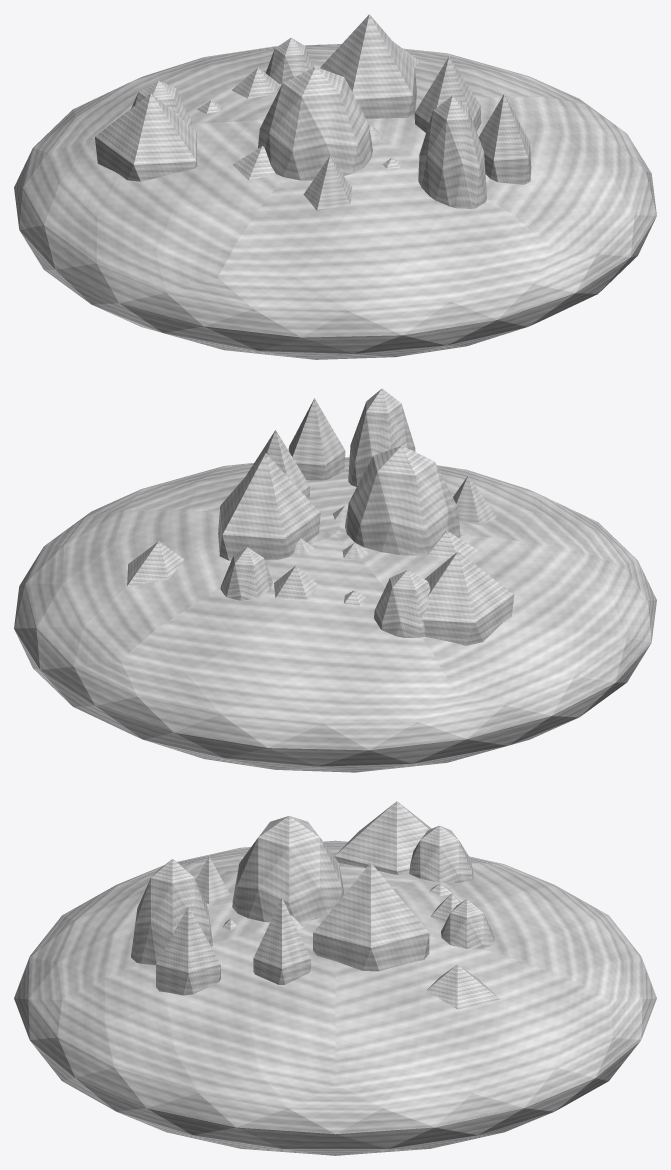
Rendered from bauxite_node_variant_d.glb.
3 views of the same model, one above another, from view 1: azimuth 30°, elevation 25°; view 2: azimuth 150°, elevation 25°; view 3: azimuth 270°, elevation 25° (orthographic).
Visible parts, largest first — view 1: Resource node bedrock.003, Exposed ore formation.043, Exposed ore formation.041, Exposed ore formation.035, Exposed ore formation.046, Exposed ore formation.047, Exposed ore formation, Exposed ore formation.044, Exposed ore formation.037, Exposed ore formation.040, Exposed ore formation.038, Exposed ore formation.042; view 2: Resource node bedrock.003, Exposed ore formation.043, Exposed ore formation.035, Exposed ore formation.041, Exposed ore formation.046, Exposed ore formation.047, Exposed ore formation.040, Exposed ore formation.037, Exposed ore formation.036, Exposed ore formation.044, Exposed ore formation, Exposed ore formation.038 (+1 smaller); view 3: Resource node bedrock.003, Exposed ore formation.043, Exposed ore formation.035, Exposed ore formation.046, Exposed ore formation.041, Exposed ore formation.047, Exposed ore formation, Exposed ore formation.040, Exposed ore formation.037, Exposed ore formation.036, Exposed ore formation.044.
Boxes of the visible parts, x1,y1,x2,y2 form: Resource node bedrock.003: (14,44,656,359); Exposed ore formation.043: (258,67,372,180); Exposed ore formation.041: (95,93,197,181); Exposed ore formation.035: (320,14,416,118); Exposed ore formation.046: (418,95,486,208); Exposed ore formation.047: (479,94,531,184); Exposed ore formation: (414,56,481,132); Exposed ore formation.044: (303,156,352,210); Exposed ore formation.037: (266,37,313,84); Exposed ore formation.040: (131,80,191,125); Exposed ore formation.038: (231,67,279,98); Exposed ore formation.042: (232,146,275,180); Resource node bedrock.003: (14,457,656,772); Exposed ore formation.043: (345,445,460,555); Exposed ore formation.035: (218,453,320,560); Exposed ore formation.041: (422,551,514,645); Exposed ore formation.046: (348,388,415,486); Exposed ore formation.047: (288,398,345,480); Exposed ore formation.040: (374,570,430,637); Exposed ore formation.037: (220,547,272,600); Exposed ore formation.036: (127,541,184,586); Exposed ore formation.044: (453,475,496,524); Exposed ore formation: (247,430,309,499); Exposed ore formation.038: (274,566,319,599); Resource node bedrock.003: (14,840,656,1155); Exposed ore formation.043: (232,816,344,922); Exposed ore formation.035: (313,863,429,971); Exposed ore formation.046: (131,859,212,964); Exposed ore formation.041: (334,801,431,874); Exposed ore formation.047: (156,906,220,995); Exposed ore formation: (253,898,310,984); Exposed ore formation.040: (409,825,473,882); Exposed ore formation.037: (441,899,494,948); Exposed ore formation.036: (426,964,501,1009); Exposed ore formation.044: (195,856,230,903).
Size of what is drawn, in the model's own units: 6.2 by 2.57 by 6.2.
2 materials, 2 textured.
